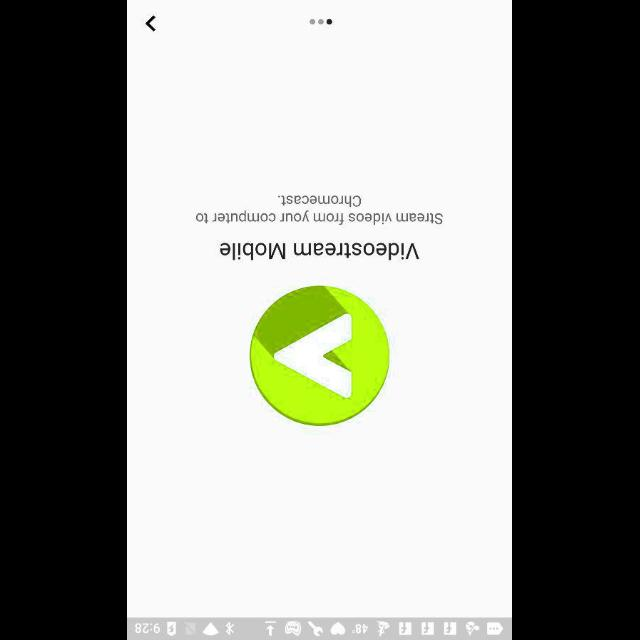icon: (146, 14, 158, 32)
image: (251, 286, 391, 426)
pageindicator: (309, 17, 333, 25)
text: (196, 194, 444, 226), (220, 242, 420, 262)
uppertaskbar: (128, 617, 512, 639)
